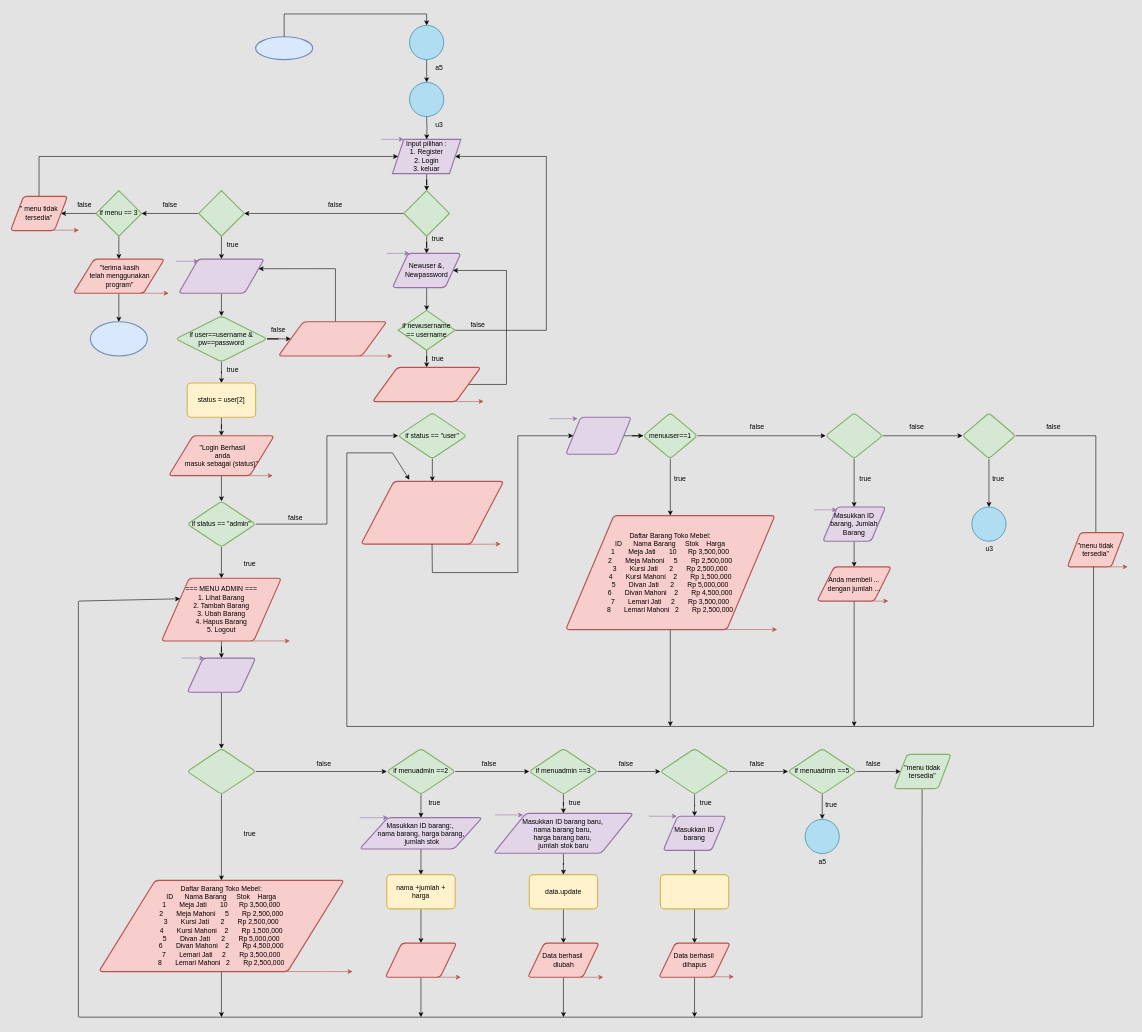
Image size: 1142x1032. Some labels were removed from this diagram. The box of each missing label's shape, as (x1, y1, x2, y2) in pixels:
"Login gagal username atau password anda salah: (278, 321, 387, 356)
"Username sudah digunakan": (372, 367, 481, 402)
=== MENU PENGGUNA === 1. Lihat Barang 2. Beli Barang 3. Logout: (360, 481, 504, 544)
Barang berhasil ditambahkan!: (384, 942, 457, 978)
data.remove: (659, 874, 729, 909)
END: (89, 321, 148, 356)
if menu == 1: (403, 190, 450, 237)
if menu == 2: (198, 190, 245, 237)
if menuadmin ==1: (186, 748, 256, 795)
if menuadmin ==4: (659, 748, 729, 795)
menuadmin: (186, 657, 256, 693)
menuuser: (565, 416, 632, 455)
menuuser==2: (825, 412, 883, 459)
menuuser==3: (962, 412, 1016, 459)
START: (255, 36, 313, 60)
username & password: (178, 258, 264, 294)
